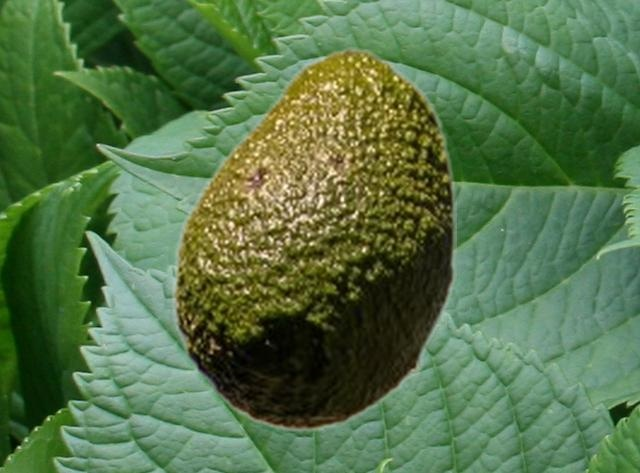avocado: (172, 47, 455, 432)
